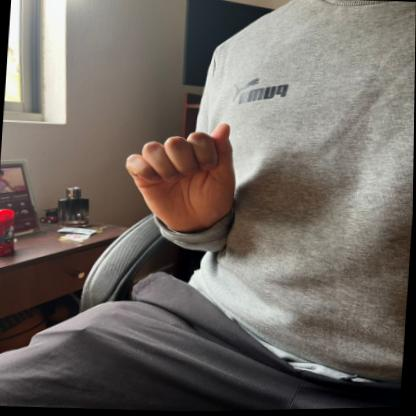A: (117, 110, 250, 239)
